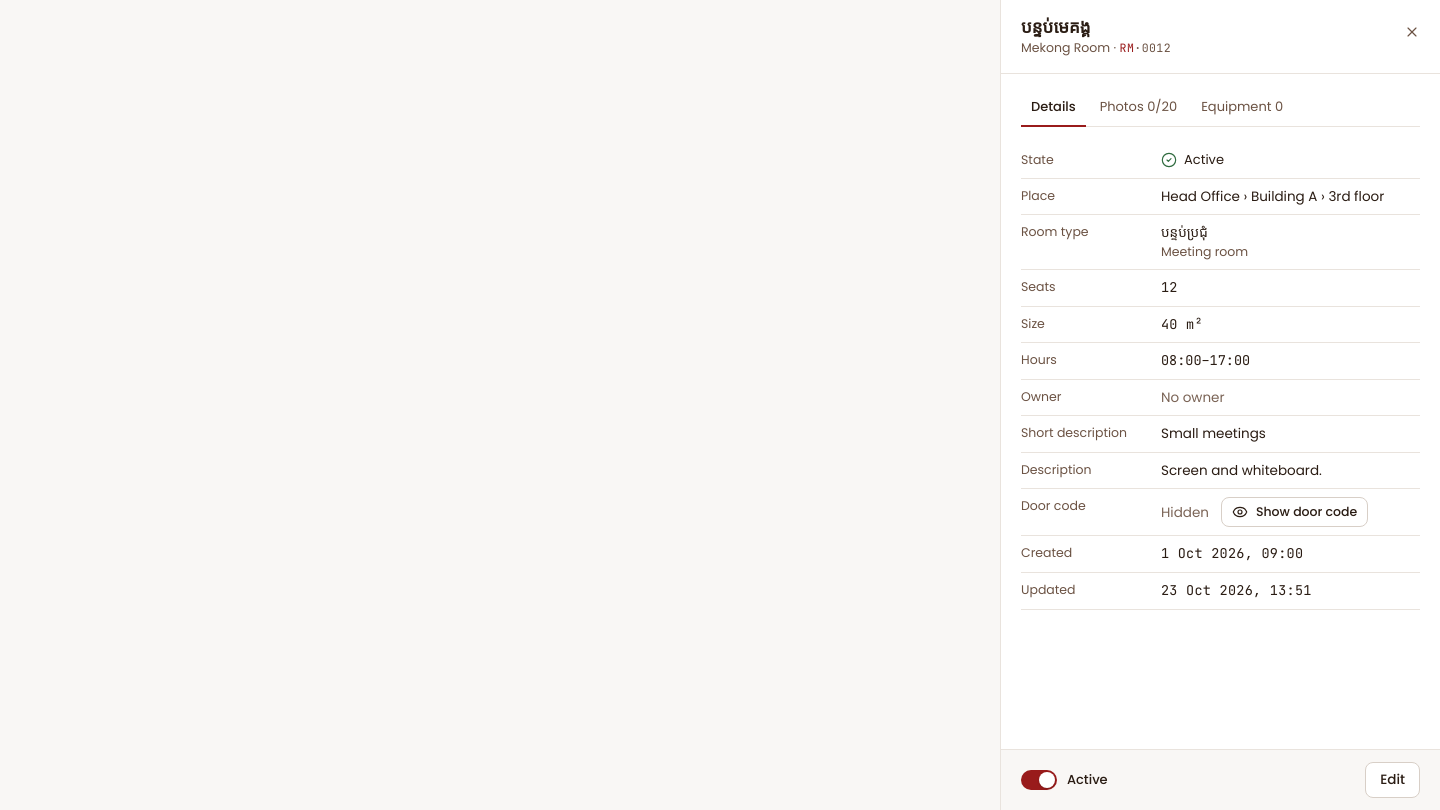
Test: RoomDetailPanel › says when no door code is set
Click the button "Show door code".
click(1295, 512)  # box x1=1221 y1=497 x2=1368 y2=527
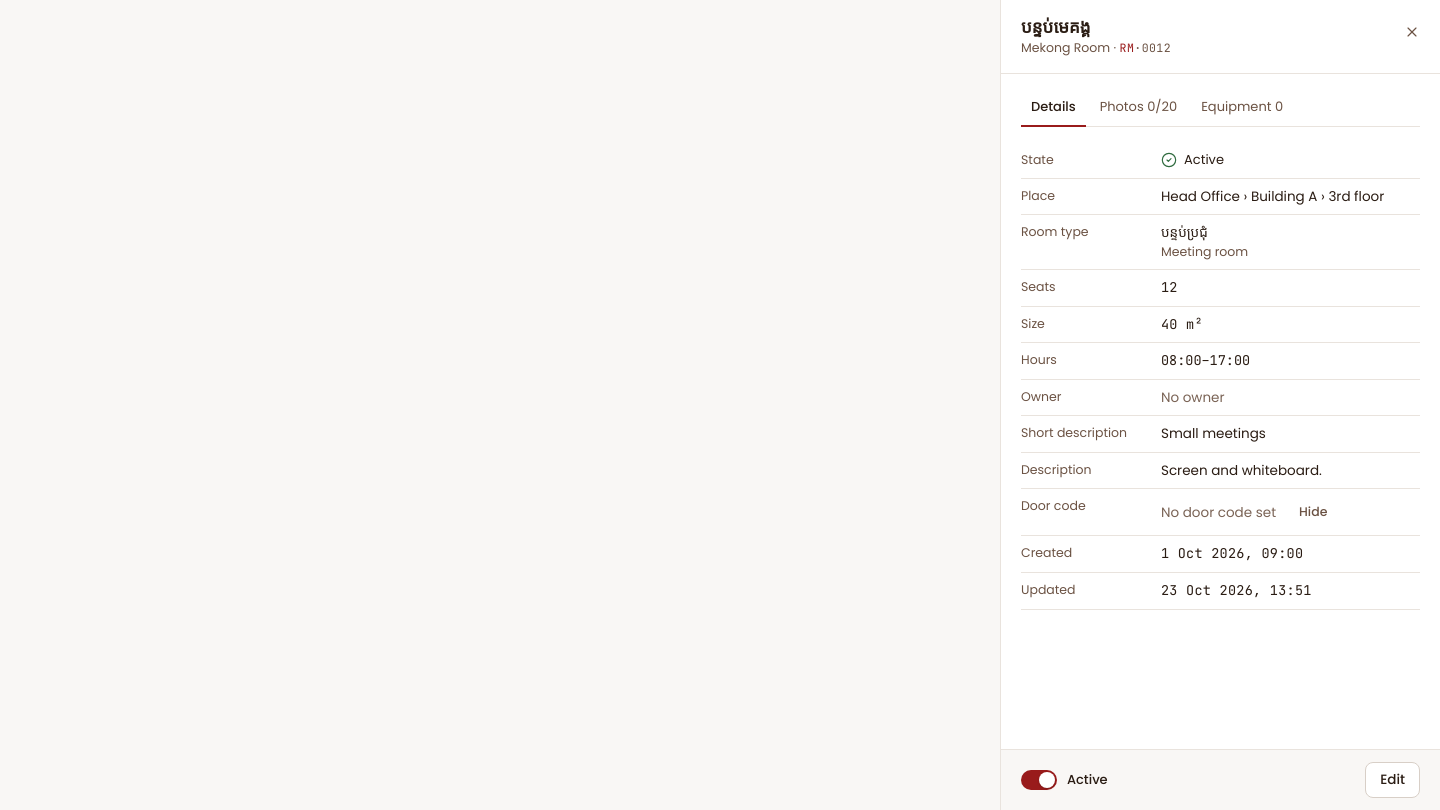
Result: the text "No door code set" is shown at x1=1161 y1=503 x2=1276 y2=522
